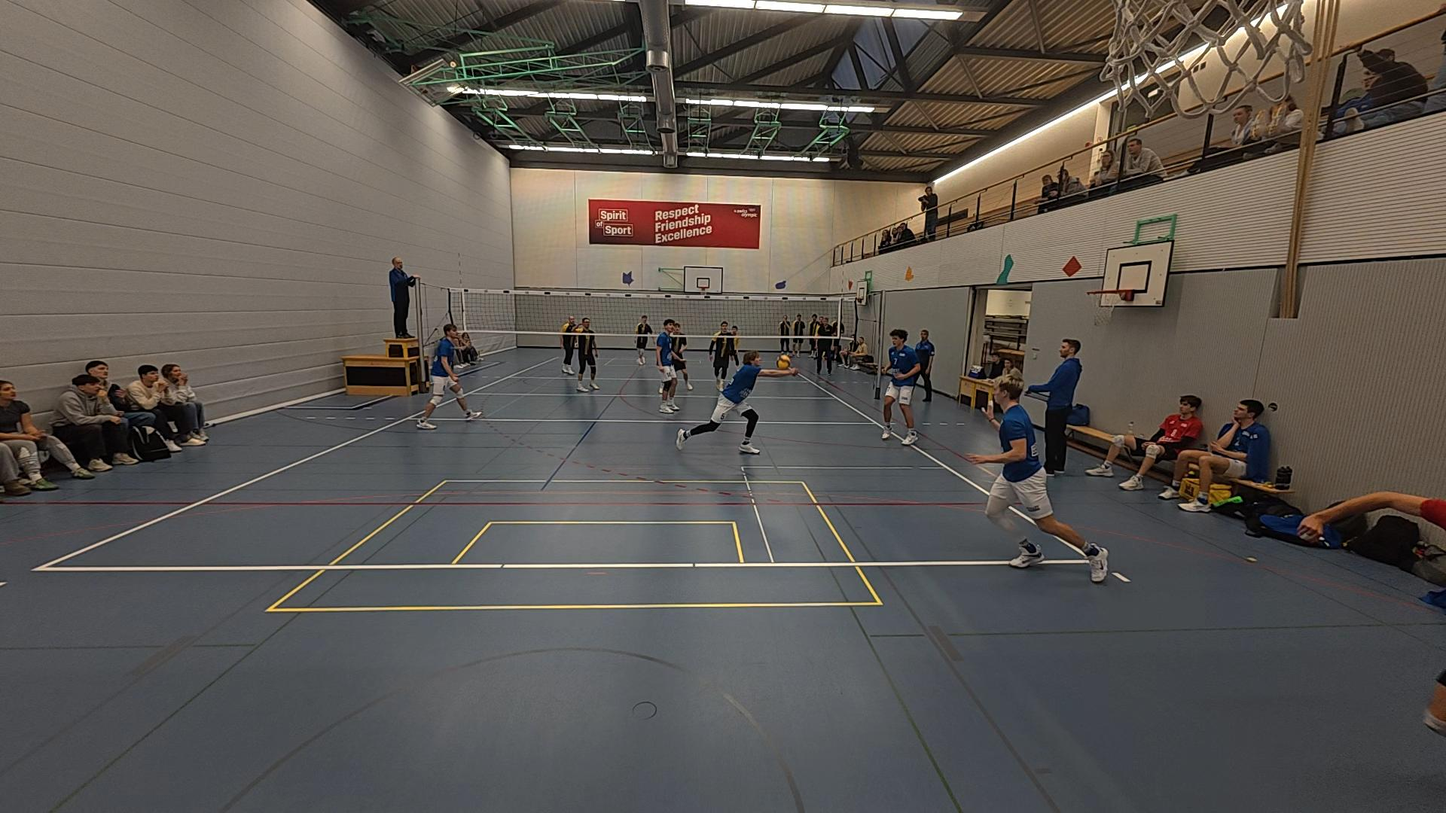difesa: (673, 348, 798, 455)
